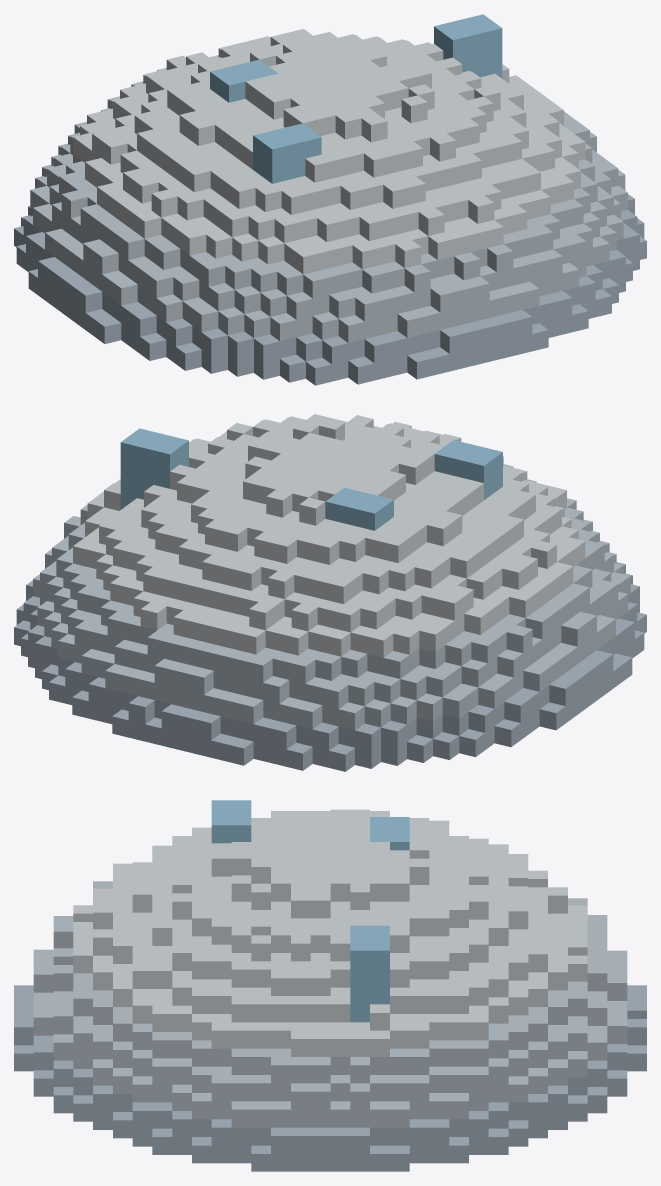
The model's file is prop_snowpile.glb.
The picture shows the model from 3 angles, top to bottom: view 1: azimuth 30°, elevation 25°; view 2: azimuth 150°, elevation 25°; view 3: azimuth 270°, elevation 25°; orthographic projection. The views are drawn at different scales.
Parts seen in each view (by area): view 1: prop_snowpile; view 2: prop_snowpile; view 3: prop_snowpile.
Part boxes in pixels (x1=…): prop_snowpile: x1=14, y1=14, x2=646, y2=385; prop_snowpile: x1=14, y1=414, x2=646, y2=771; prop_snowpile: x1=14, y1=800, x2=646, y2=1171.
Bounding box in the file's own units: 1.6 × 0.5001 × 1.6.
